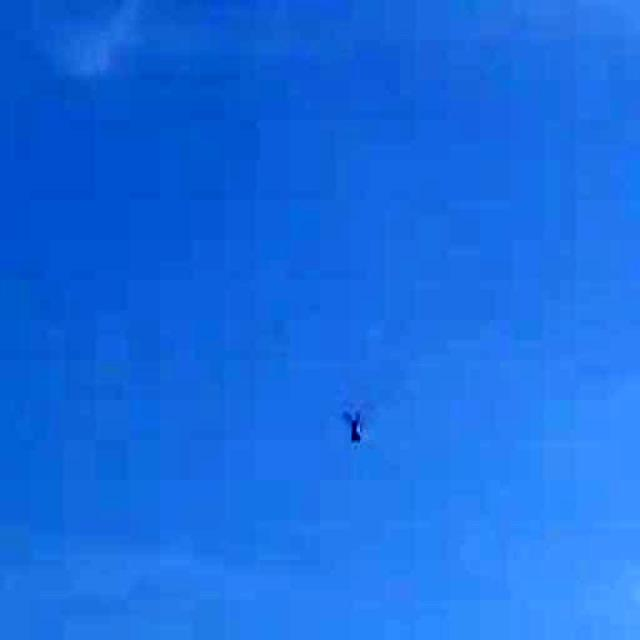drone: (319, 379, 392, 475)
